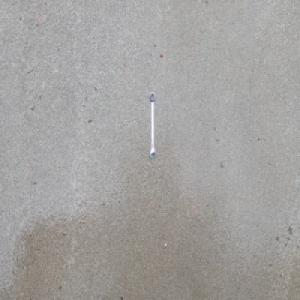Wrench: (149, 91, 157, 160)
